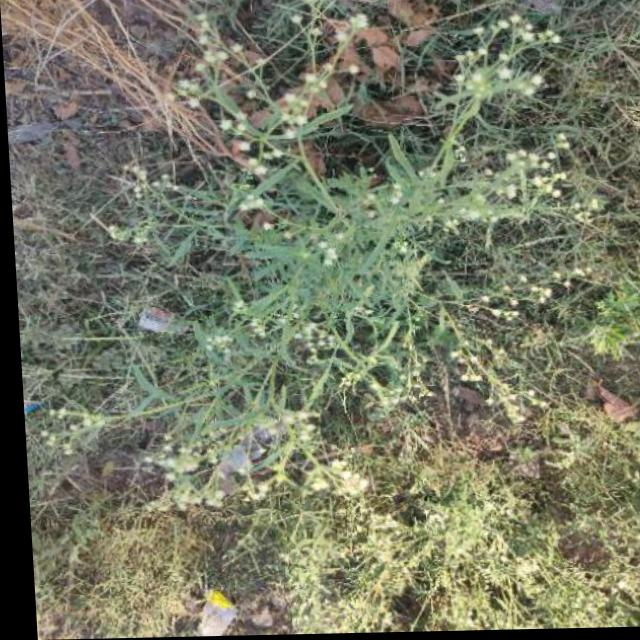weed: (47, 26, 639, 598)
